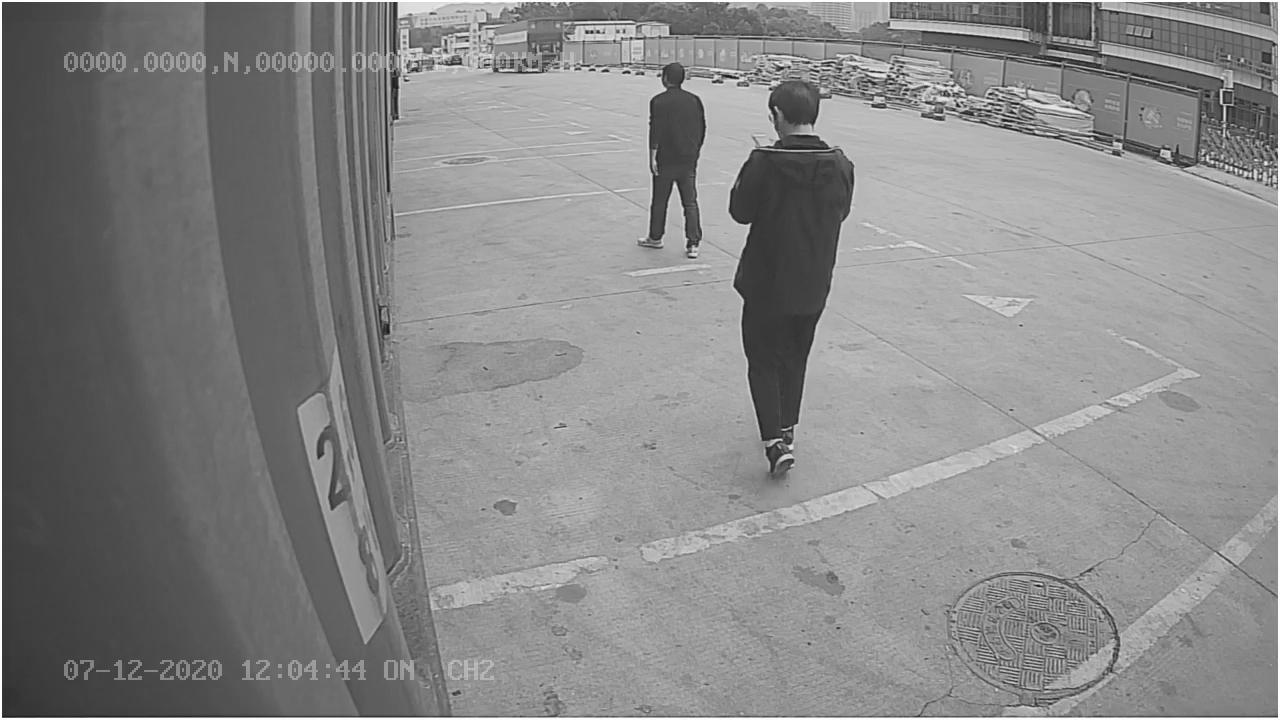person: (730, 77, 854, 480)
